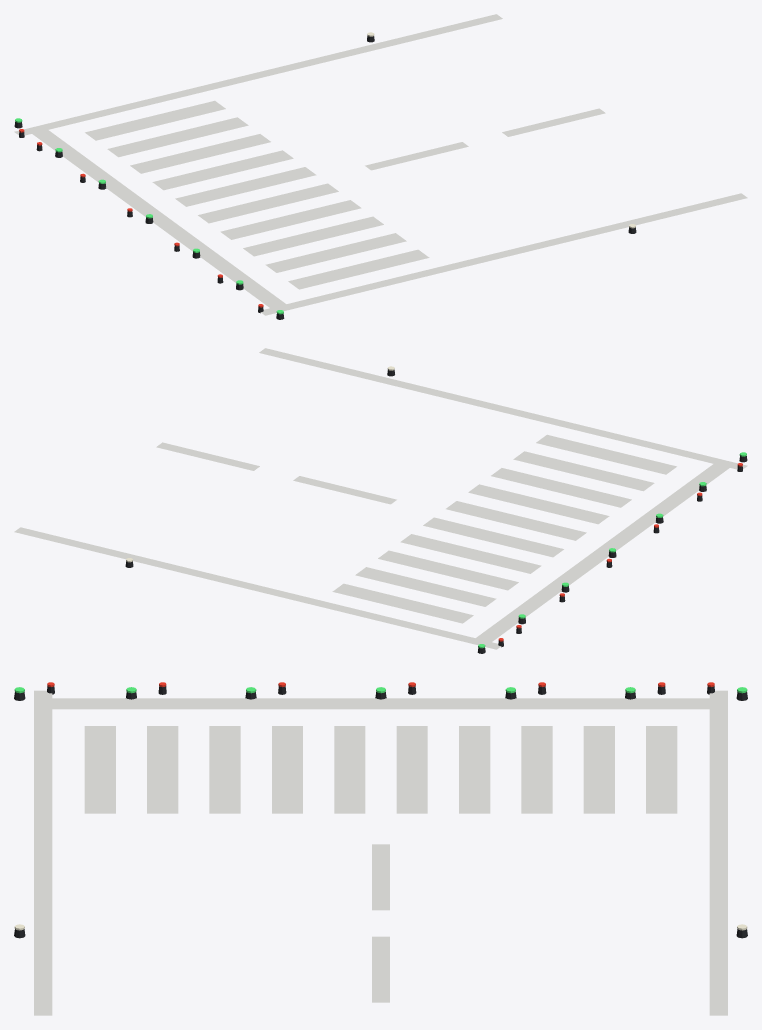
File: let_draha_konec.glb
3 renders of one model, top to bottom at view 1: azimuth 30°, elevation 25°; view 2: azimuth 150°, elevation 25°; view 3: azimuth 270°, elevation 25°, orthographic. The views are drawn at different scales.
Visible parts, largest first — view 1: dum; view 2: dum; view 3: dum, noc.
Boxes of the visible parts, x1,y1,x2,y2 form: dum: [14, 14, 747, 319]; dum: [14, 348, 747, 653]; dum: [14, 686, 747, 1015]; noc: [14, 682, 747, 930].
Bounding box in the file's own units: 14.83 × 0.2001 × 14.12.
1 material, 1 textured.
